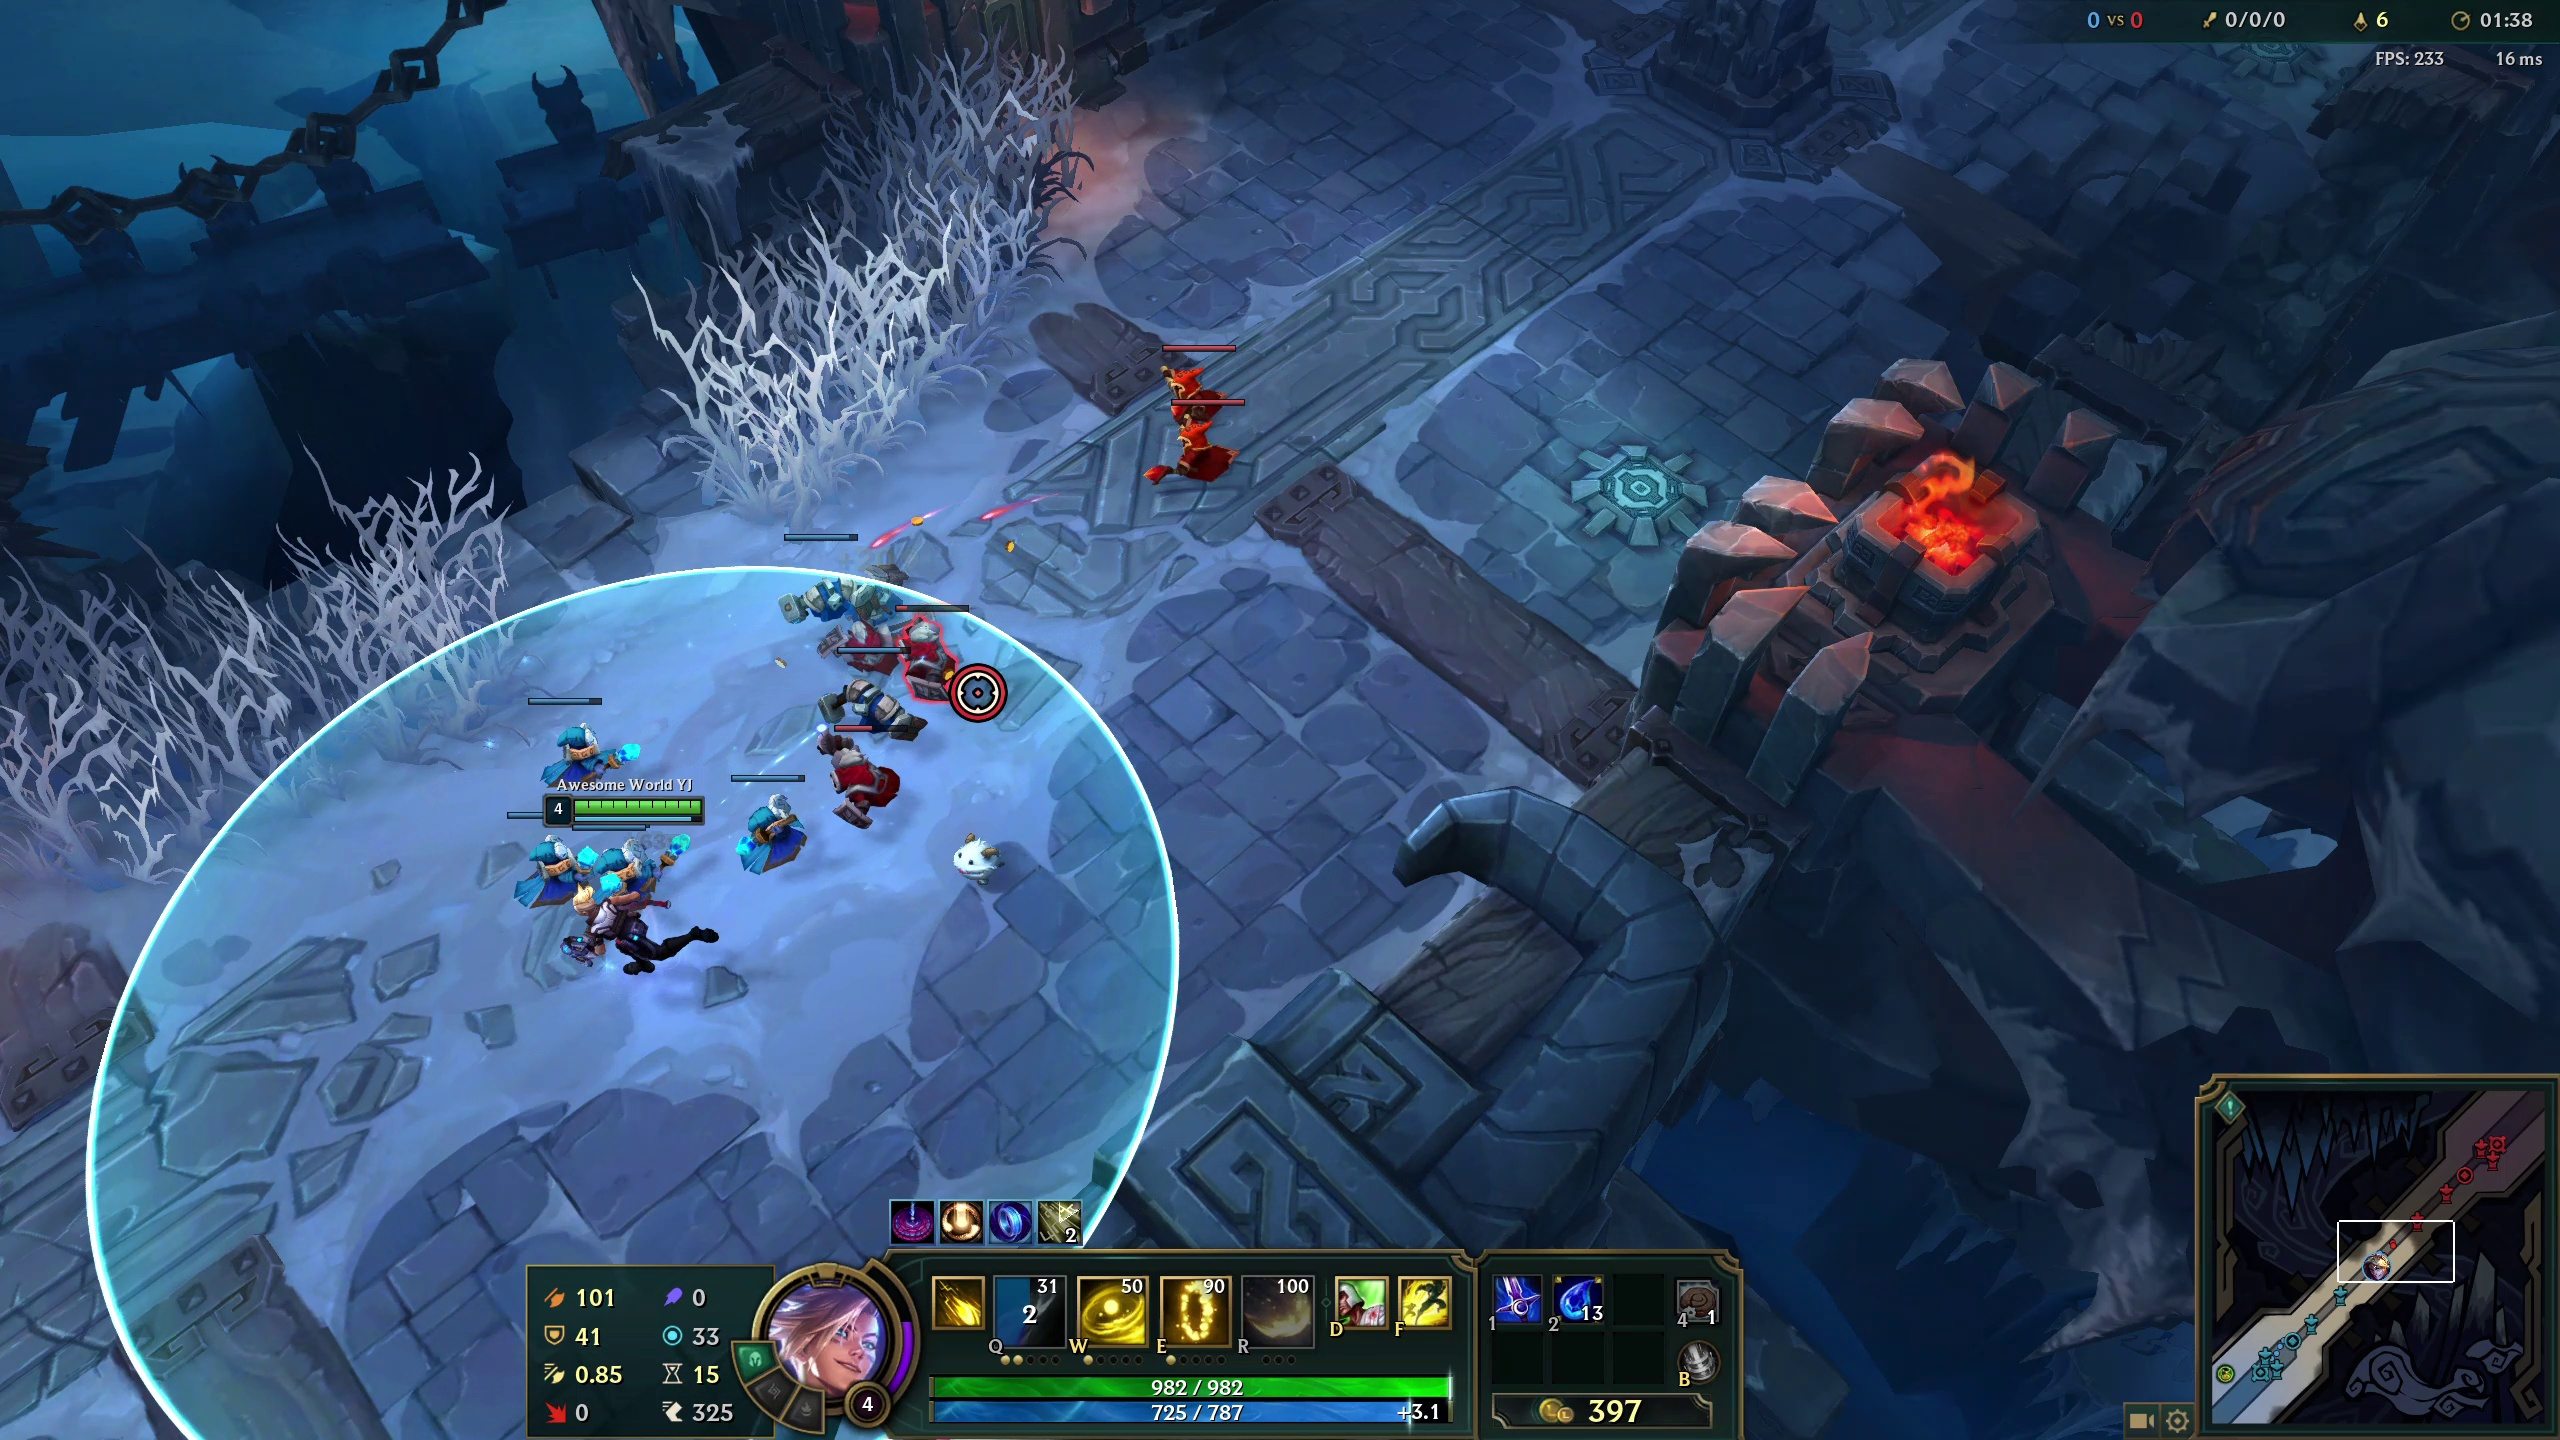EZ: (559, 853, 716, 1080)
EnemyMinion: (825, 721, 925, 833), (893, 596, 992, 709), (1155, 332, 1234, 427), (1166, 387, 1243, 482)
Glass: (86, 587, 448, 818), (775, 104, 976, 411)
MyMinion: (515, 686, 626, 805), (751, 517, 862, 636), (714, 751, 825, 869), (489, 796, 600, 914)
Turret: (1674, 9, 1793, 104)
